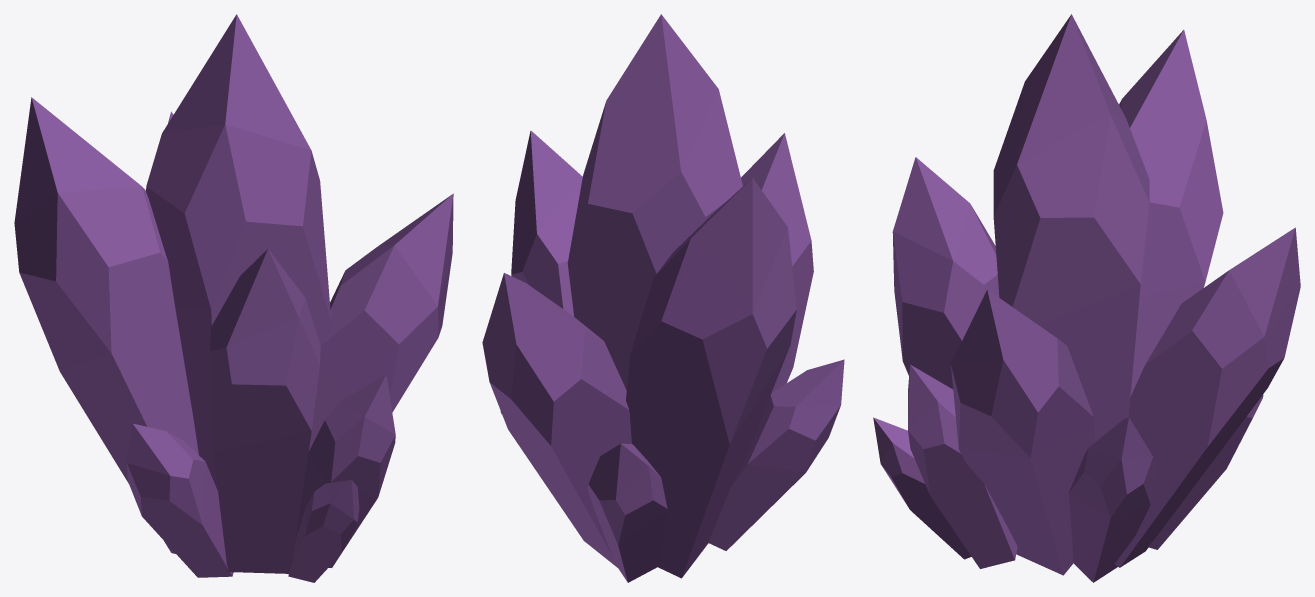
Rendered from cave_crystal_1.fbx.
3 renders of one model, left to right at view 1: azimuth 30°, elevation 25°; view 2: azimuth 150°, elevation 25°; view 3: azimuth 270°, elevation 25°, orthographic.
Parts seen in each view (by area): view 1: cave__crystal_2; view 2: cave__crystal_2; view 3: cave__crystal_2.
Boxes of the visible parts, x1,y1,x2,y2 form: cave__crystal_2: [14, 14, 453, 582]; cave__crystal_2: [482, 14, 844, 582]; cave__crystal_2: [873, 14, 1300, 582].
Bounding box in the file's own units: 1.3 × 1.97 × 1.4.
